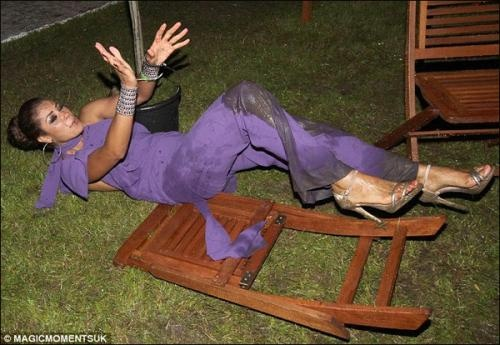falling: (13, 33, 495, 238)
